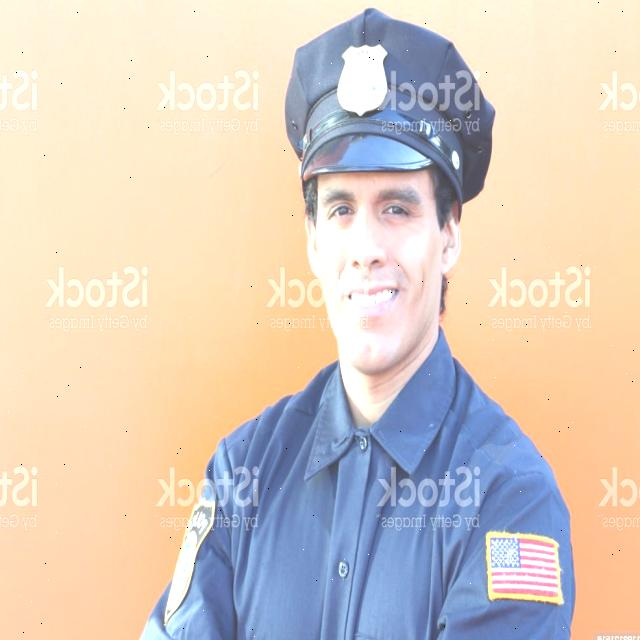police: (168, 8, 556, 640)
